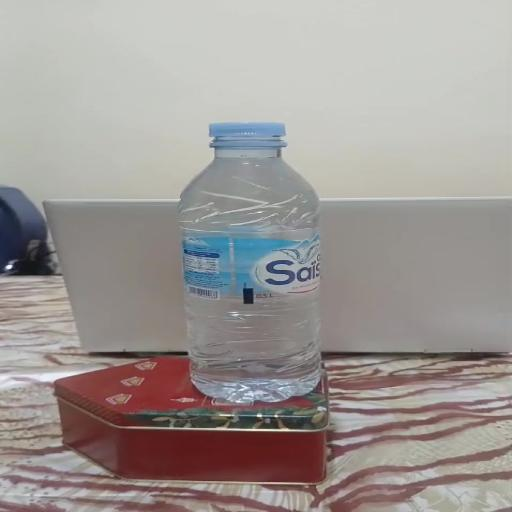bouteille non conformite: (172, 102, 342, 157)
